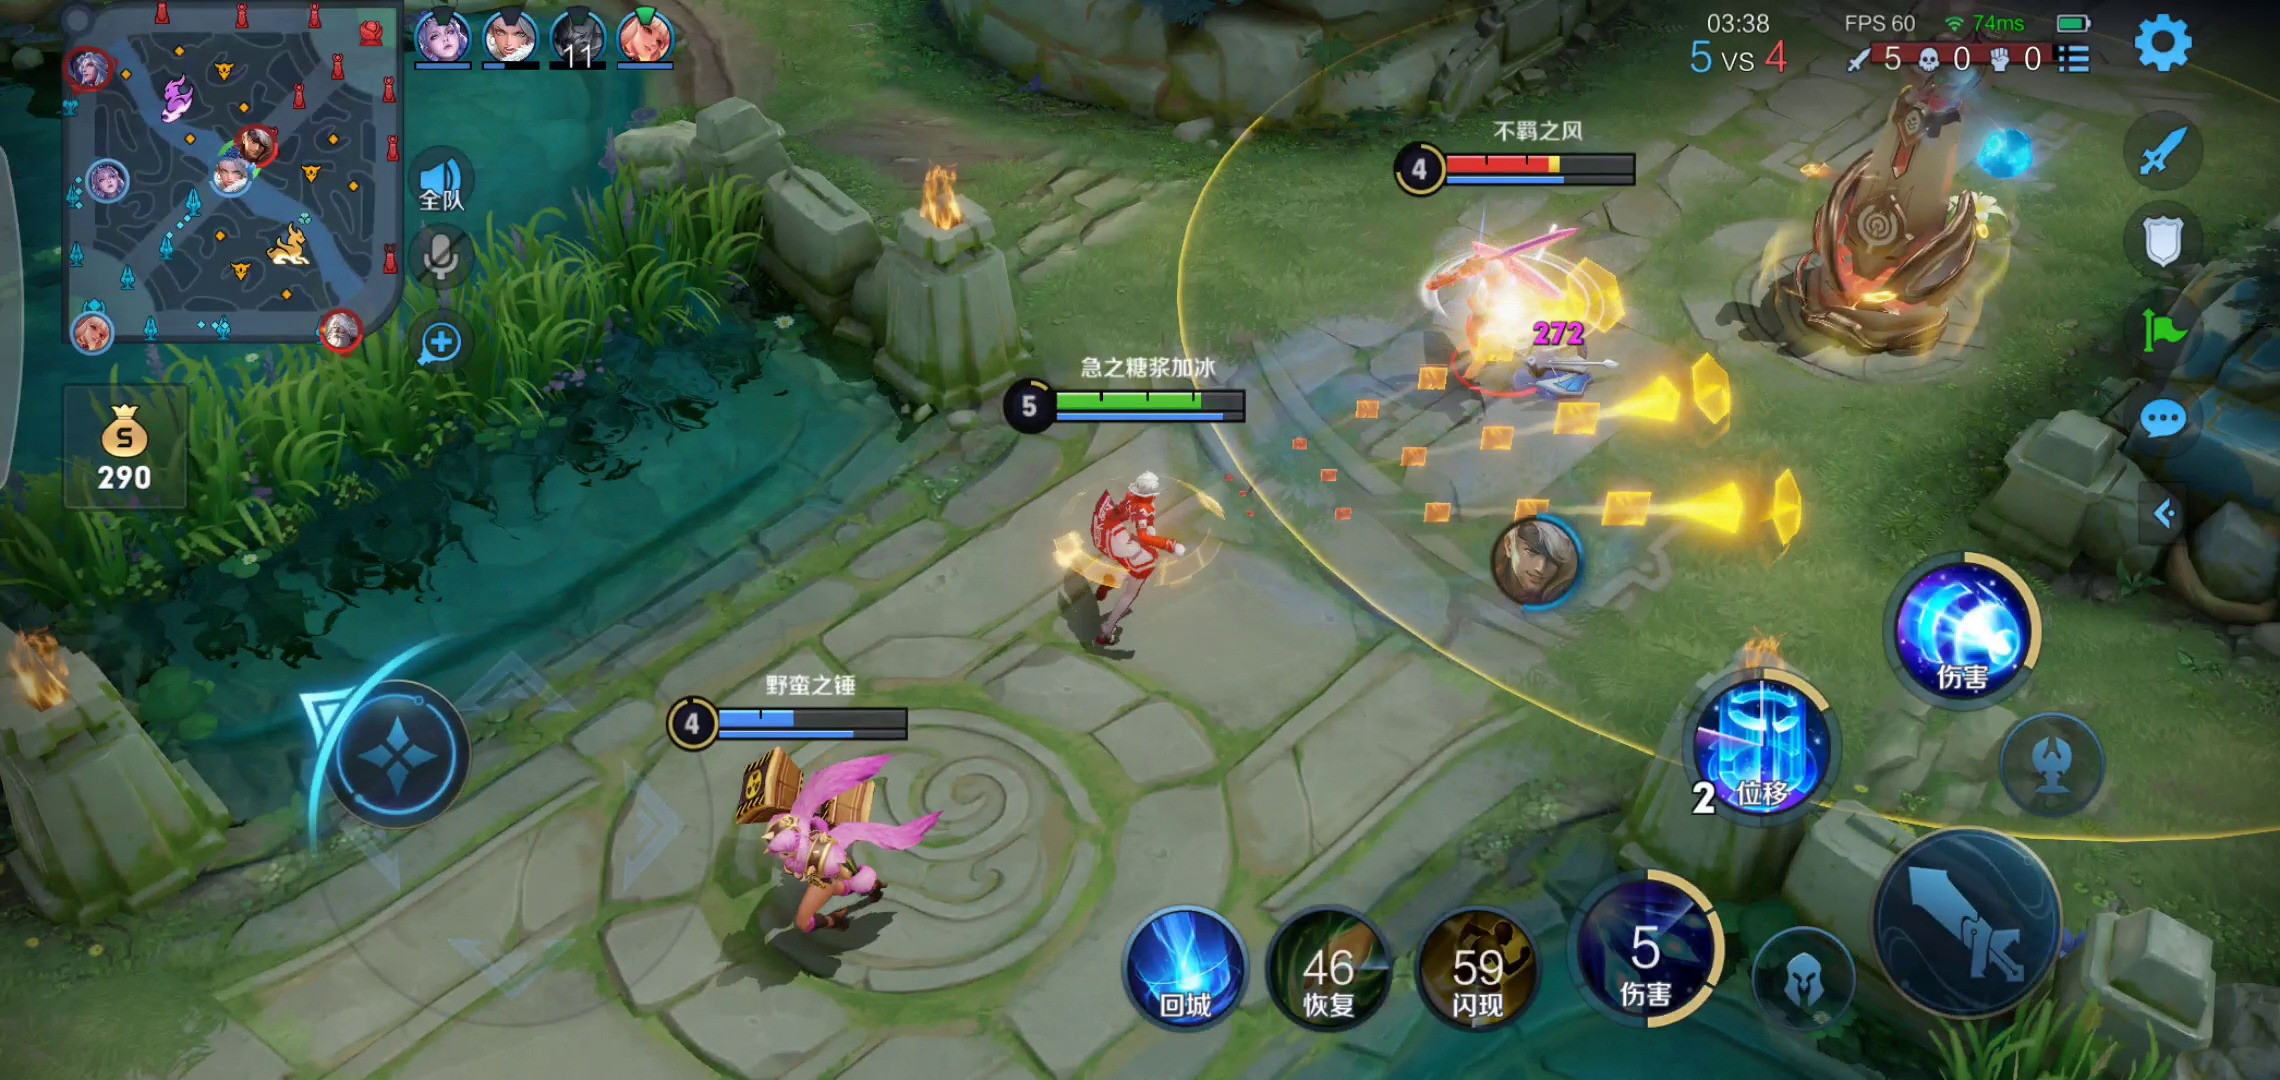grass: (6, 170, 795, 602)
hero: (1029, 464, 1223, 656), (728, 754, 931, 933), (1421, 224, 1607, 411)
tower: (1754, 39, 1994, 384)
